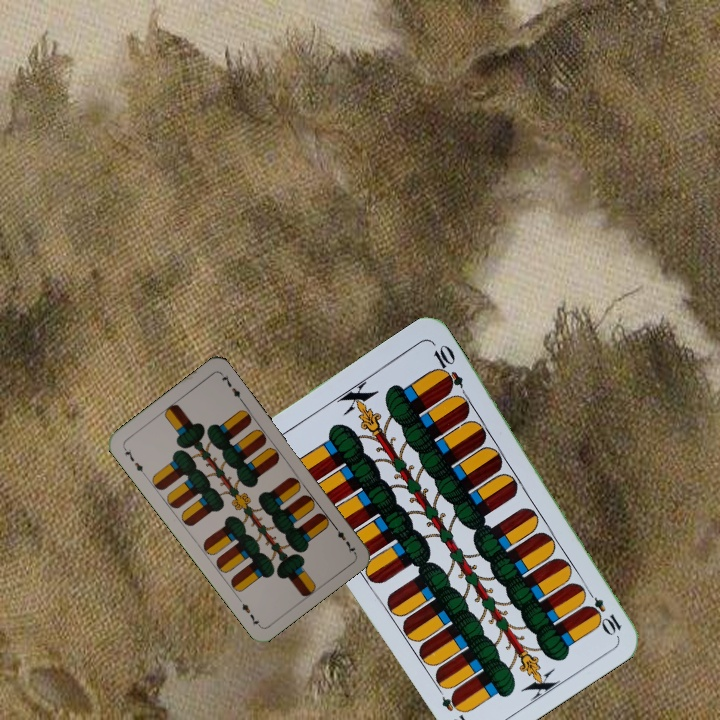E10: (580, 584, 624, 638)
E7: (329, 520, 358, 556), (119, 443, 148, 478)
